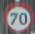Speed limit: (2, 1, 34, 32)
